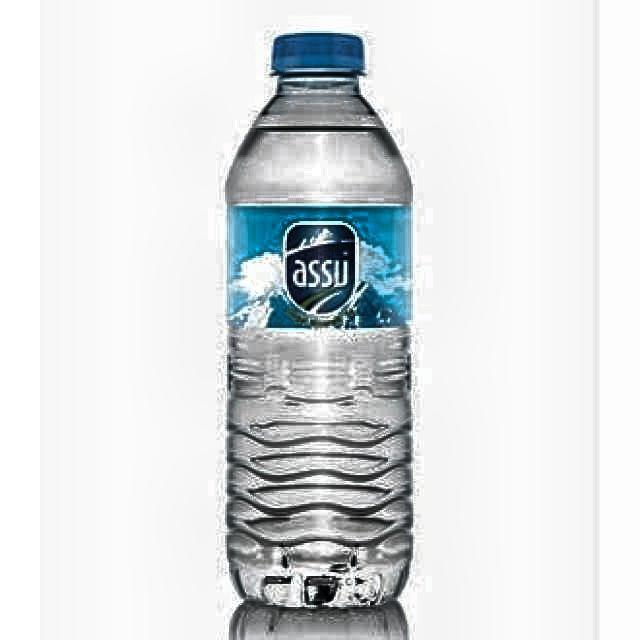plastic: (225, 31, 415, 640)
